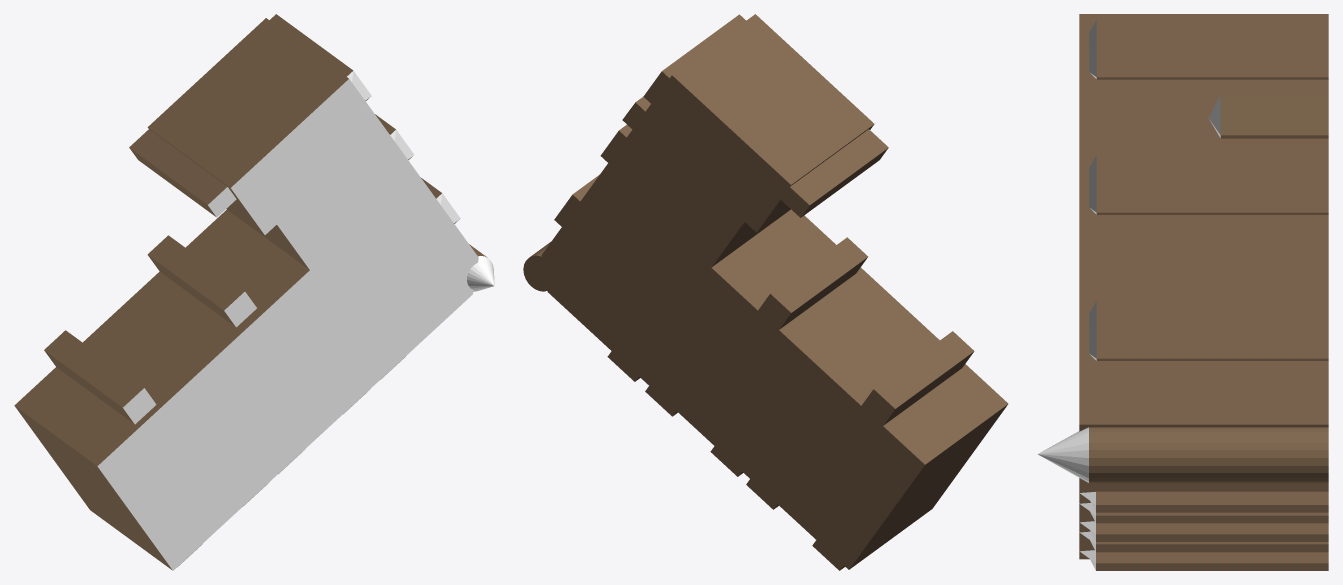
3 renders of one model, left to right at view 1: azimuth 30°, elevation 25°; view 2: azimuth 150°, elevation 25°; view 3: azimuth 270°, elevation 25°, orthographic. The views are drawn at different scales.
Visible parts, largest first — view 1: City_PC-08757; view 2: City_PC-08757; view 3: City_PC-08757.
Boxes of the visible parts, <box> form: City_PC-08757: <box>14,14,494,570</box>; City_PC-08757: <box>523,14,1008,570</box>; City_PC-08757: <box>1037,14,1328,570</box>.
Size of the model in its own units: 4118 by 4470 by 1732.
